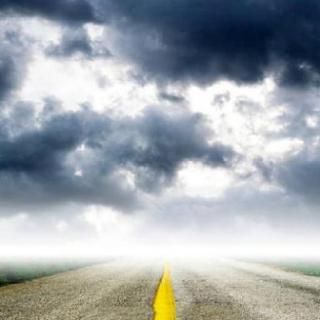Nimbostratus: (0, 0, 320, 246)
